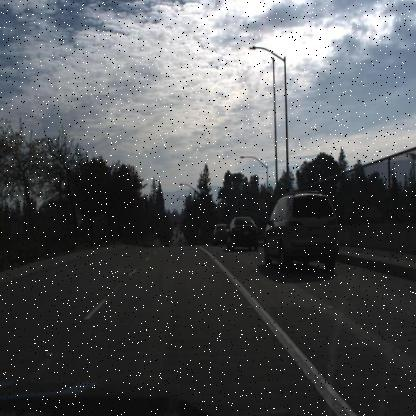car: (262, 192, 340, 277), (224, 216, 258, 252), (212, 223, 228, 244)
